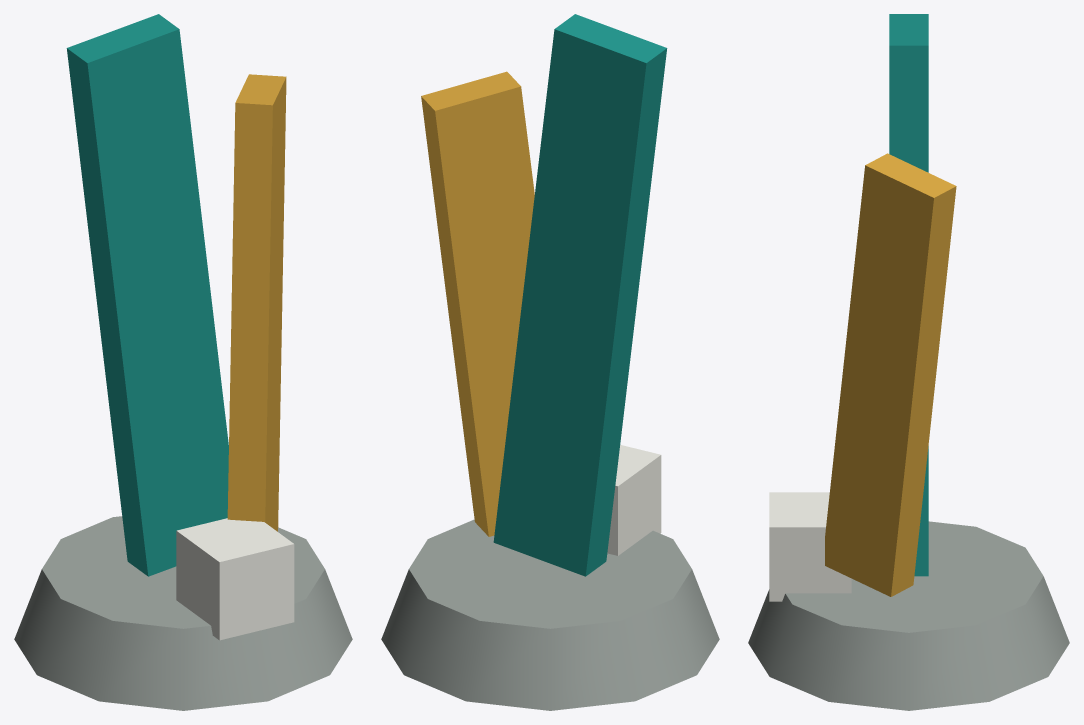
The picture shows the model from 3 angles, left to right: view 1: azimuth 30°, elevation 25°; view 2: azimuth 150°, elevation 25°; view 3: azimuth 270°, elevation 25°; orthographic projection. The views are drawn at different scales.
Visible parts, largest first — view 1: block-sail (×2), plinth, anchor-block; view 2: block-sail (×2), plinth, anchor-block; view 3: block-sail (×2), plinth, anchor-block.
Part boxes in pixels (x1,y1,x2,y2): block-sail (×2): (66, 14, 286, 576); plinth: (14, 516, 352, 710); anchor-block: (176, 518, 294, 640); block-sail (×2): (421, 14, 667, 576); plinth: (381, 519, 719, 710); anchor-block: (607, 445, 661, 555); block-sail (×2): (825, 14, 956, 596); plinth: (748, 521, 1069, 710); anchor-block: (769, 492, 851, 601).
Size of the model in its own units: 1.96 by 3.97 by 1.96.
